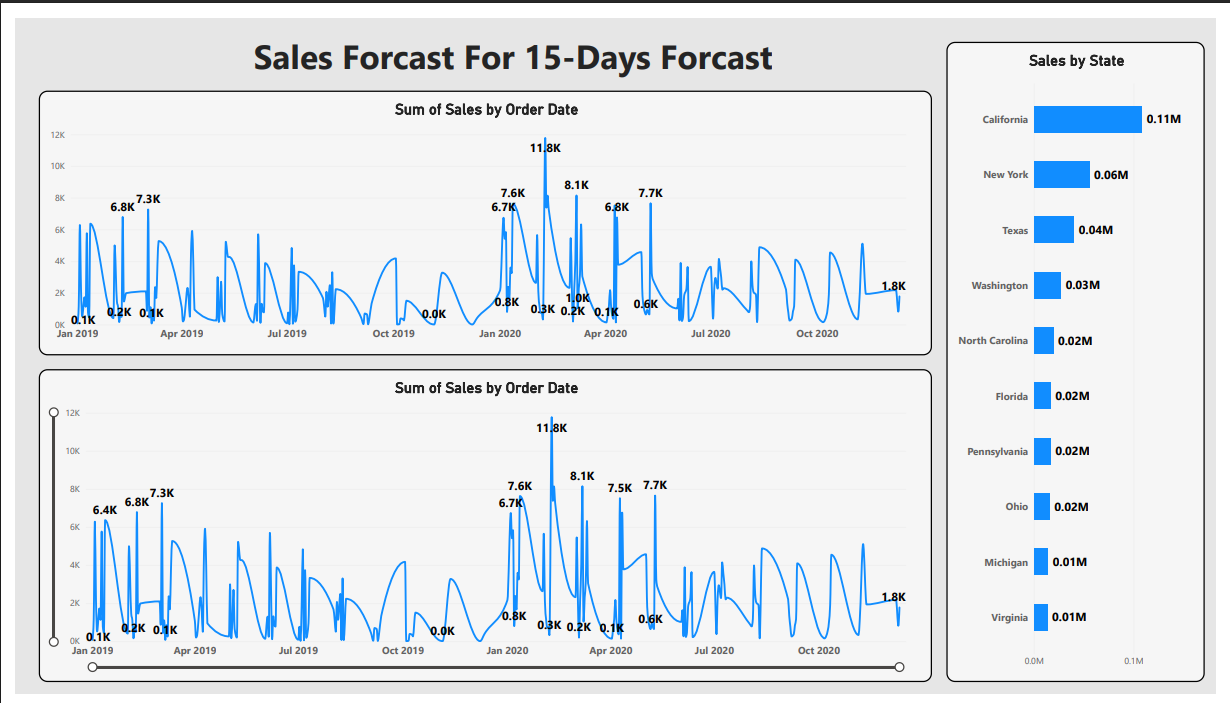

The page's visual inventory and layout, read from the dashboard file:
{"tool":"powerbi","page":{"name":"Forcasting","canvas":[1920,1080],"ordinal":1},"visuals":[{"type":"lineChart","fields":{"Category":["SuperStore_Sales_Dataset.Order Date"],"Y":["Sum(SuperStore_Sales_Dataset.Sales)"]},"box":[38,115.8,1427.8,423.5],"z":0},{"type":"lineChart","fields":{"Category":["SuperStore_Sales_Dataset.Order Date"],"Y":["Sum(SuperStore_Sales_Dataset.Sales)"]},"box":[37.5,560.9,1428.3,500.4],"z":1},{"type":"textbox","box":[381.6,22.9,836.1,77.2],"z":2},{"type":"barChart","title":"Sales by State","fields":{"Category":["SuperStore_Sales_Dataset.State"],"Y":["Sum(SuperStore_Sales_Dataset.Sales)"]},"box":[1488.8,37.5,412.9,1023.8],"z":3}]}

Visuals, with their boxes in screenshot pixels (x1, y1, x2, y2), scaled from the page's 1920x1080 canvas onto the 1230x703 screenshot:
lineChart - SuperStore_Sales_Dataset.Order Date x Sum(SuperStore_Sales_Dataset.Sales): (x1=24, y1=75, x2=939, y2=351)
lineChart - SuperStore_Sales_Dataset.Order Date x Sum(SuperStore_Sales_Dataset.Sales): (x1=24, y1=365, x2=939, y2=691)
textbox: (x1=244, y1=15, x2=780, y2=65)
"Sales by State" barChart: (x1=954, y1=24, x2=1218, y2=691)
